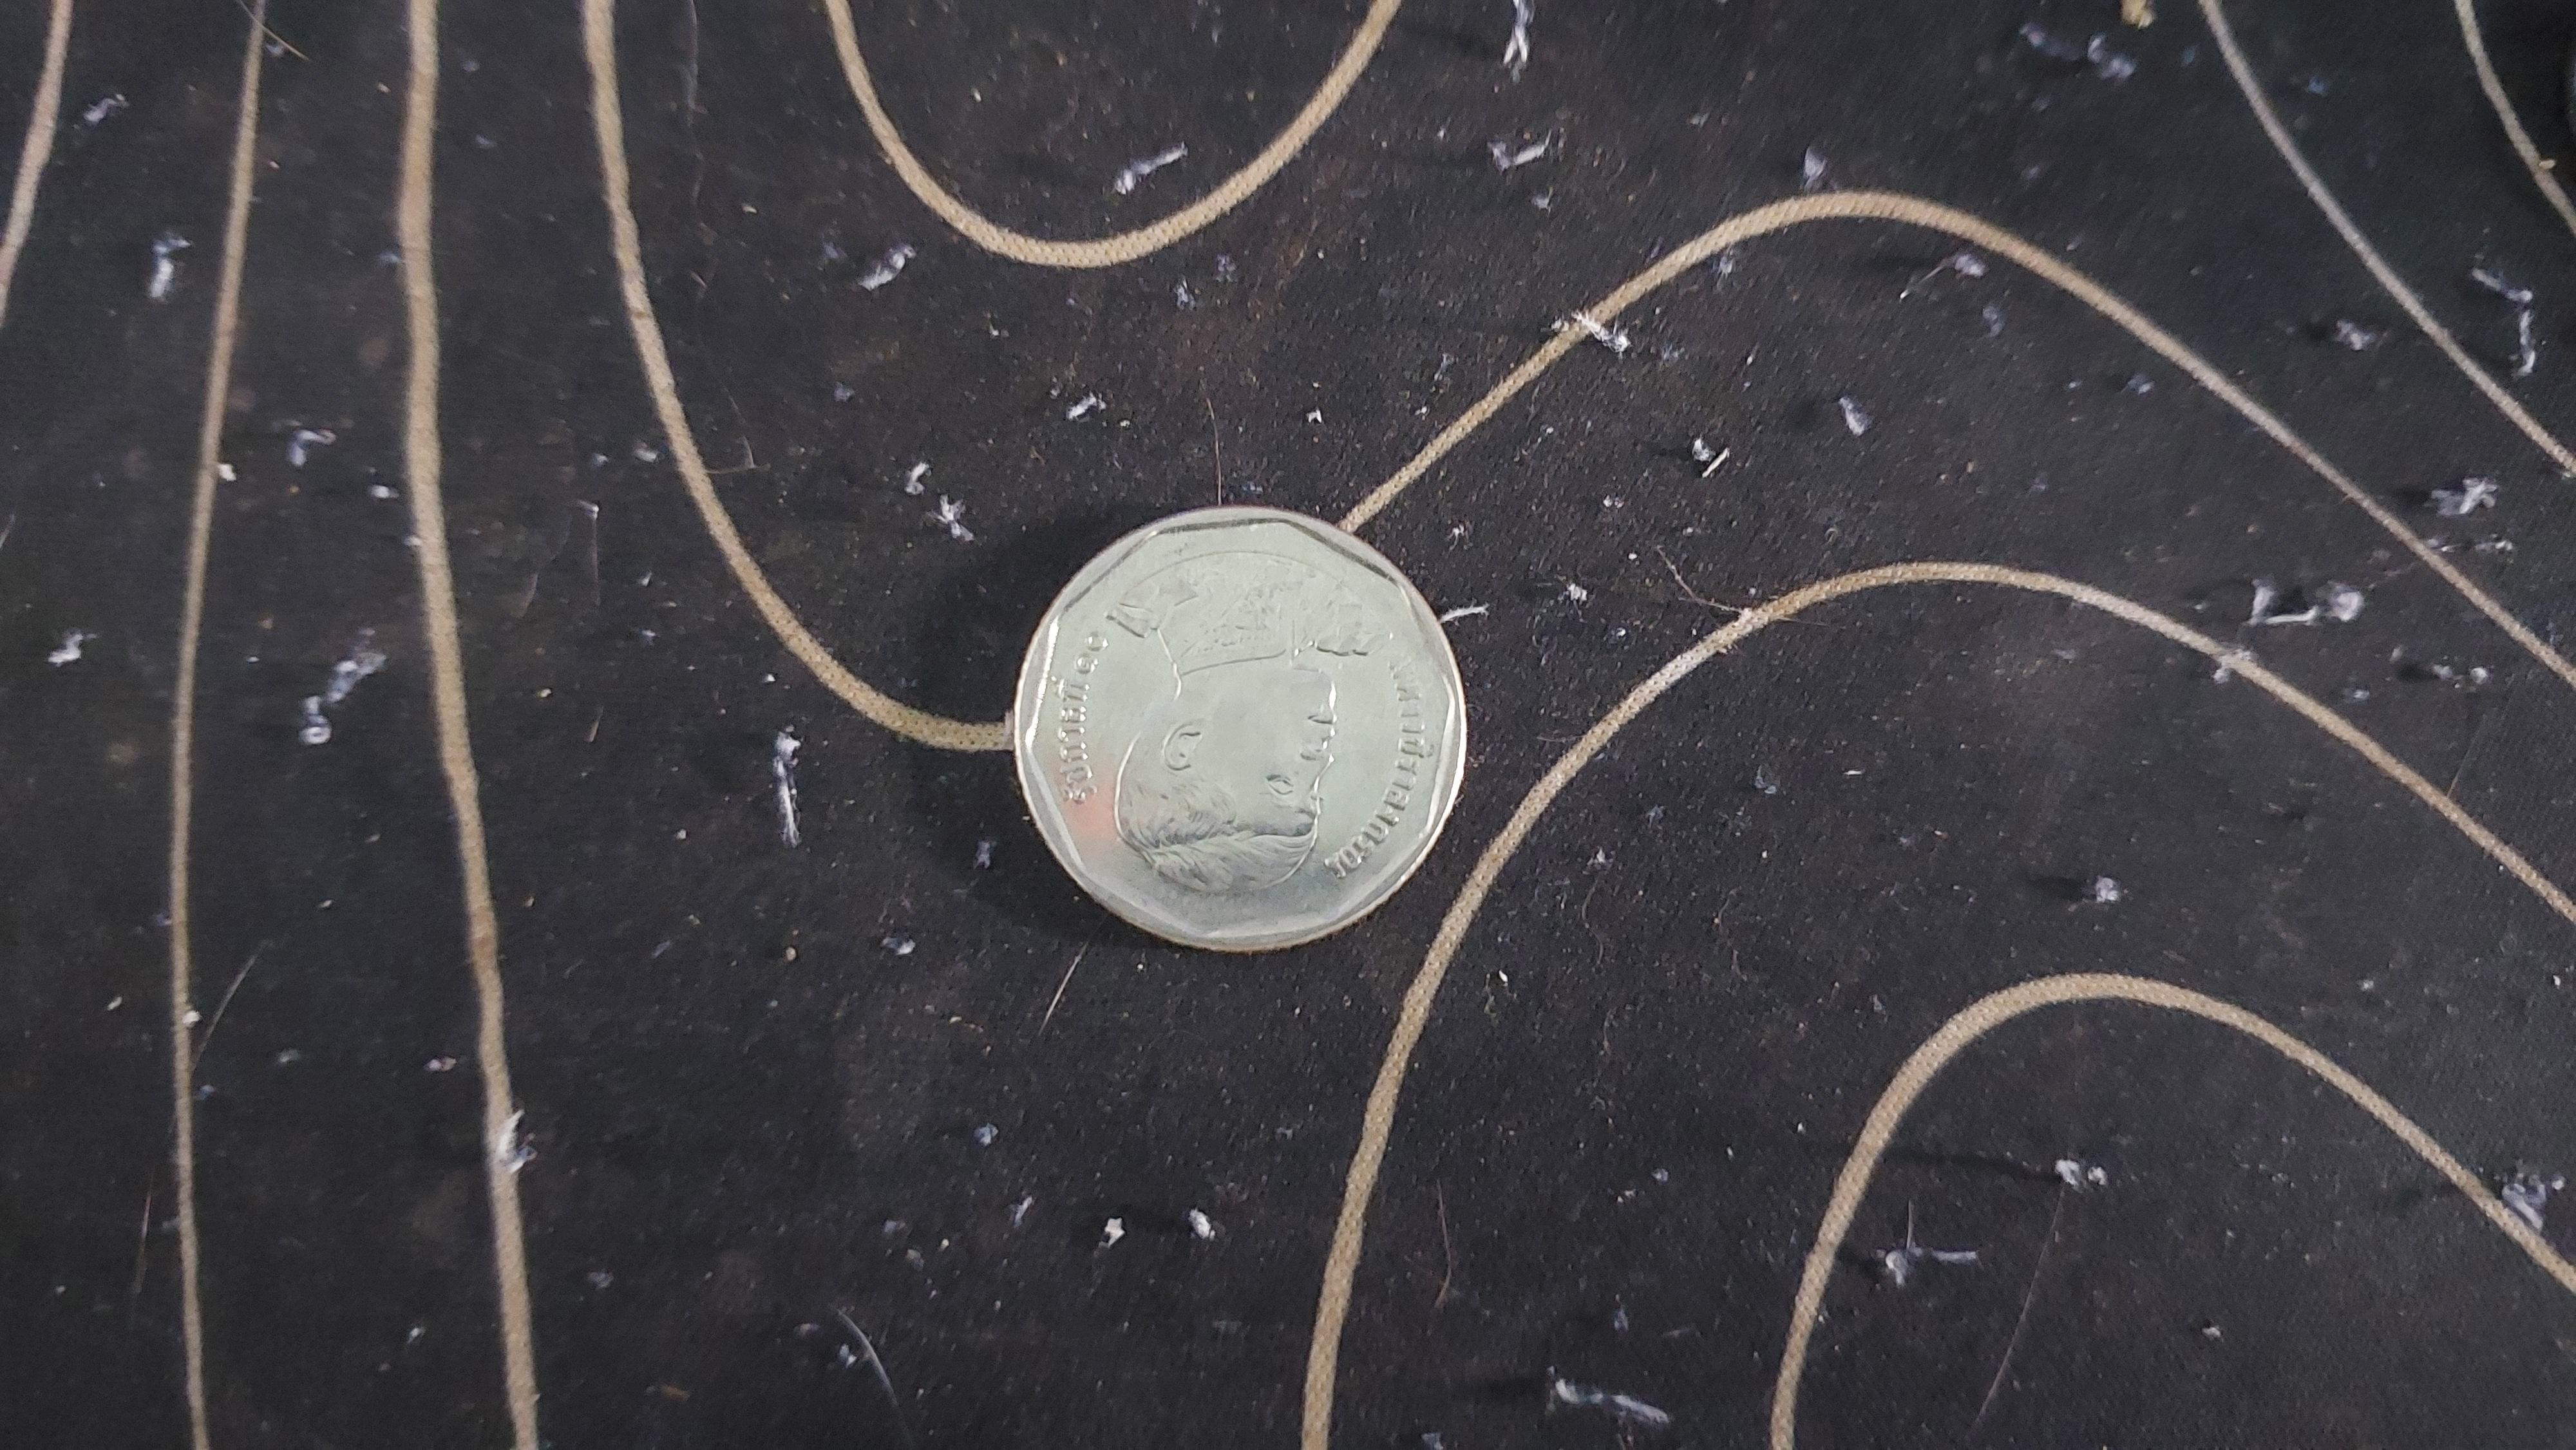5baht: (952, 462, 1654, 1042)
